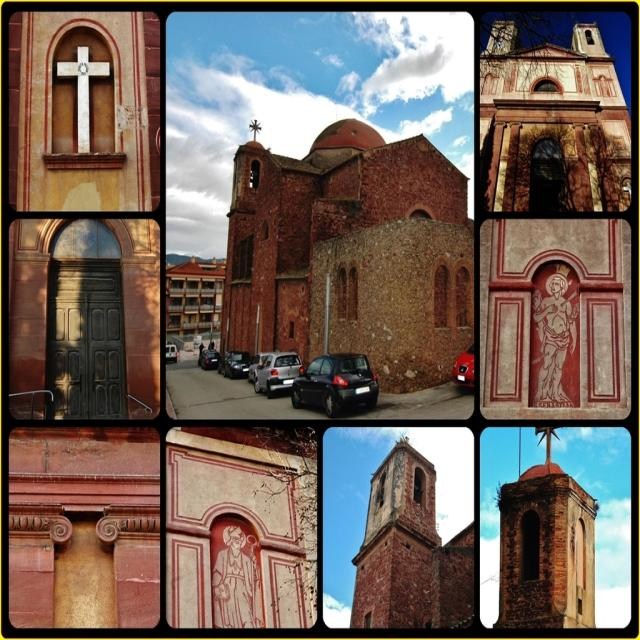car: (287, 350, 378, 413)
